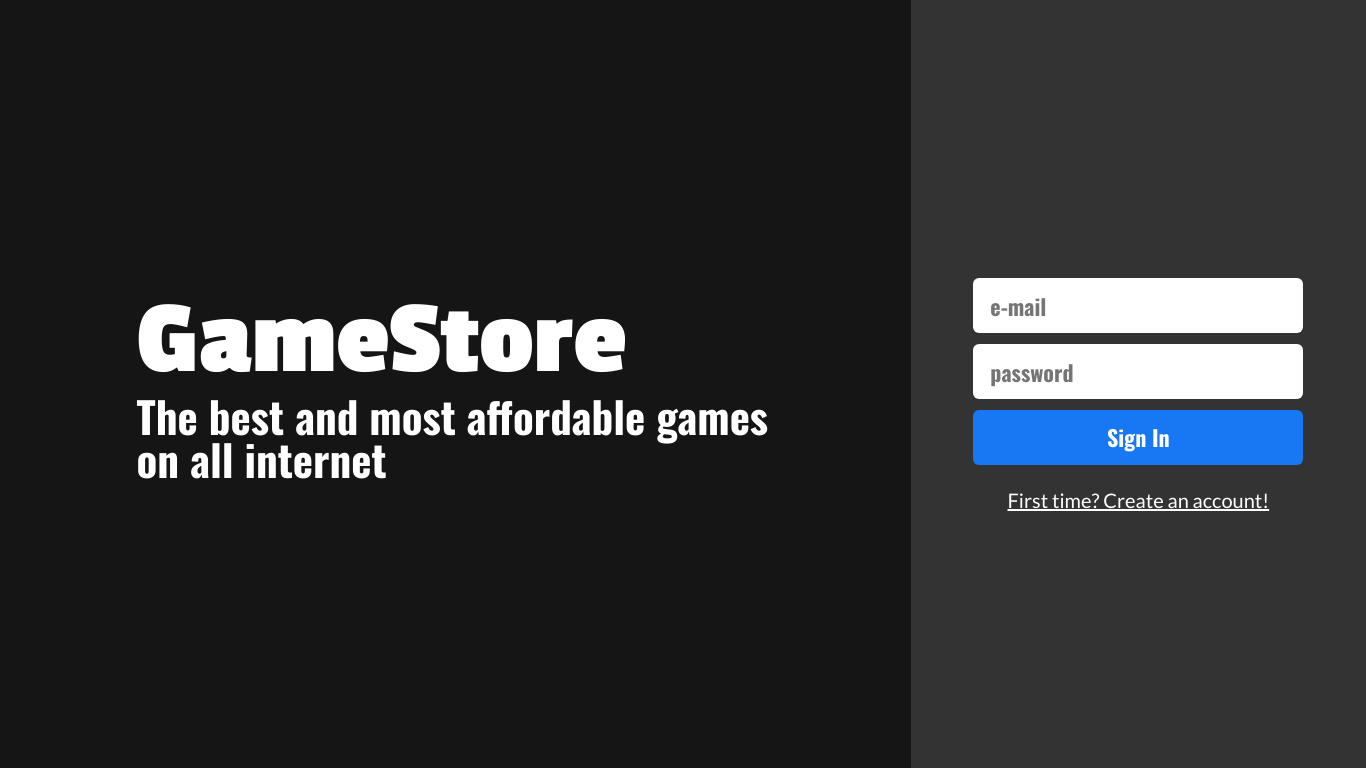
Scenario: Login › should show error message for invalid params
The width and height of the screenshot is (1366, 768).
Type "a@a.com" into the field with placeholder "e-mail" at (1138, 306), box top-left (973, 278), bottom-right (1303, 333)
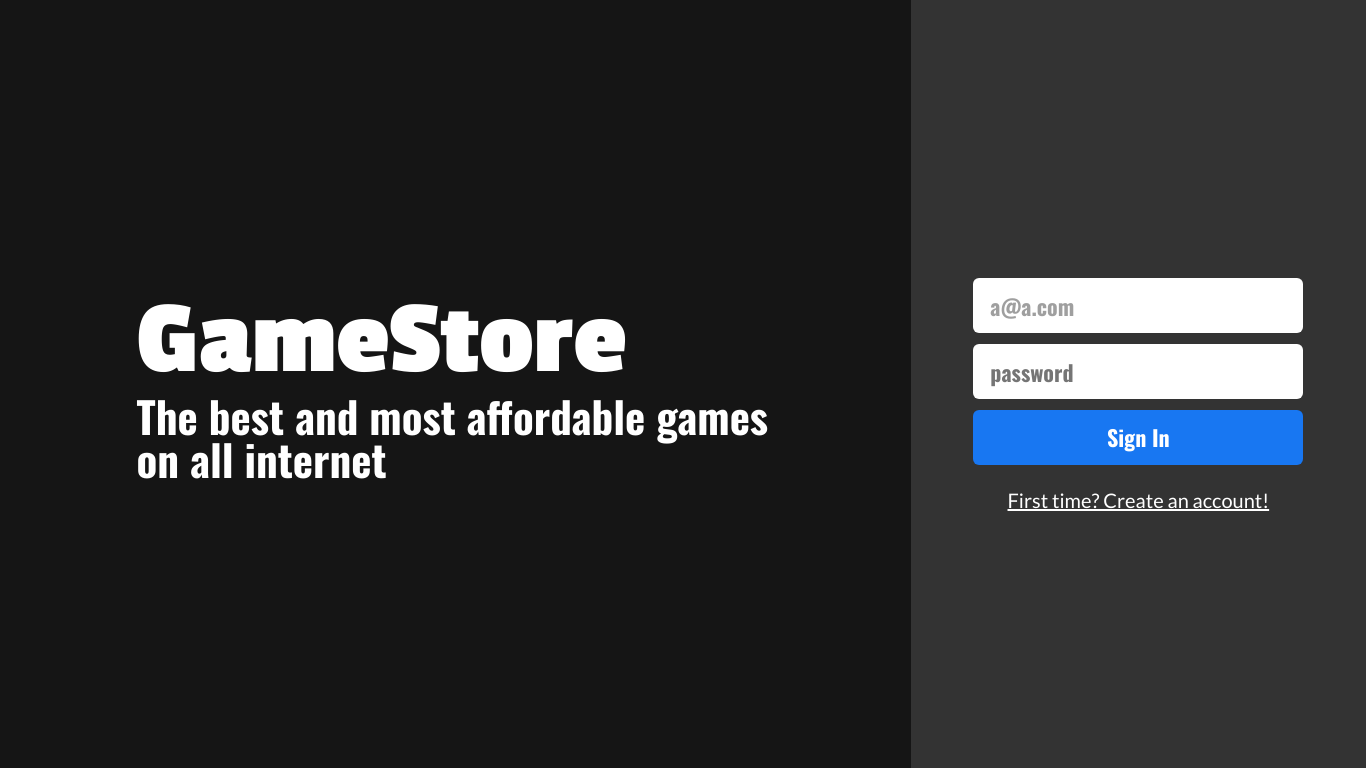
Type "123456a!a" into the password field with placeholder "password" at (1138, 372), box top-left (973, 344), bottom-right (1303, 399)
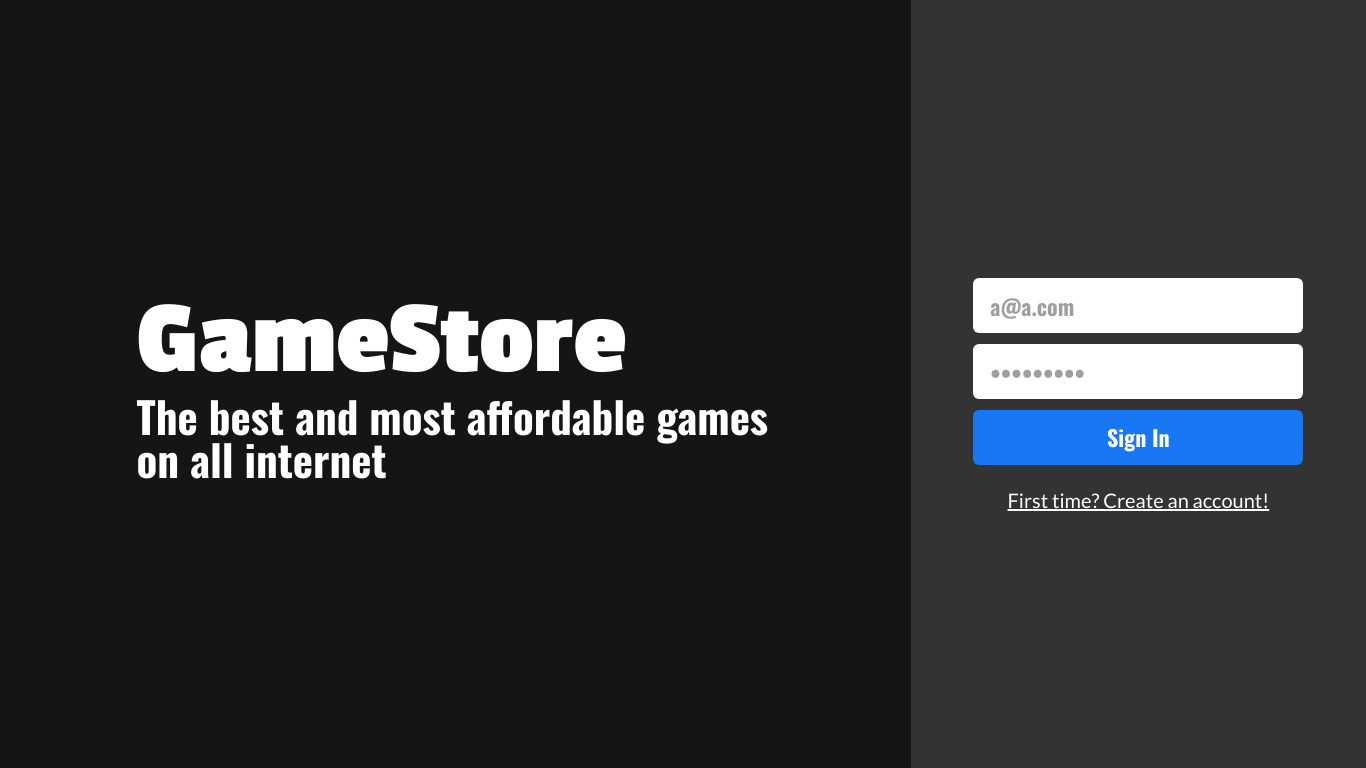
Click the button "Sign In" at (1138, 438), box top-left (973, 410), bottom-right (1303, 465)
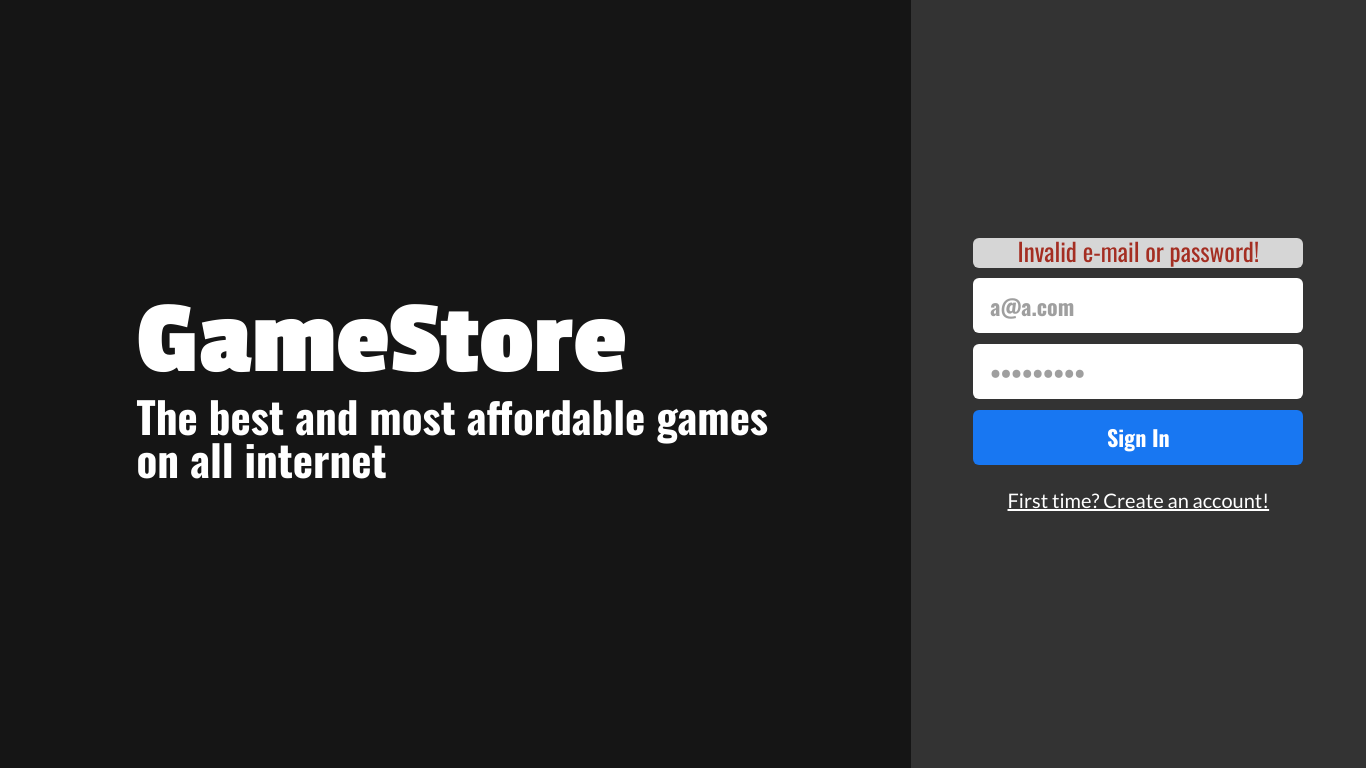
Expected: the text "Invalid e-mail or password!" is shown, top-left (973, 238), bottom-right (1303, 268)
